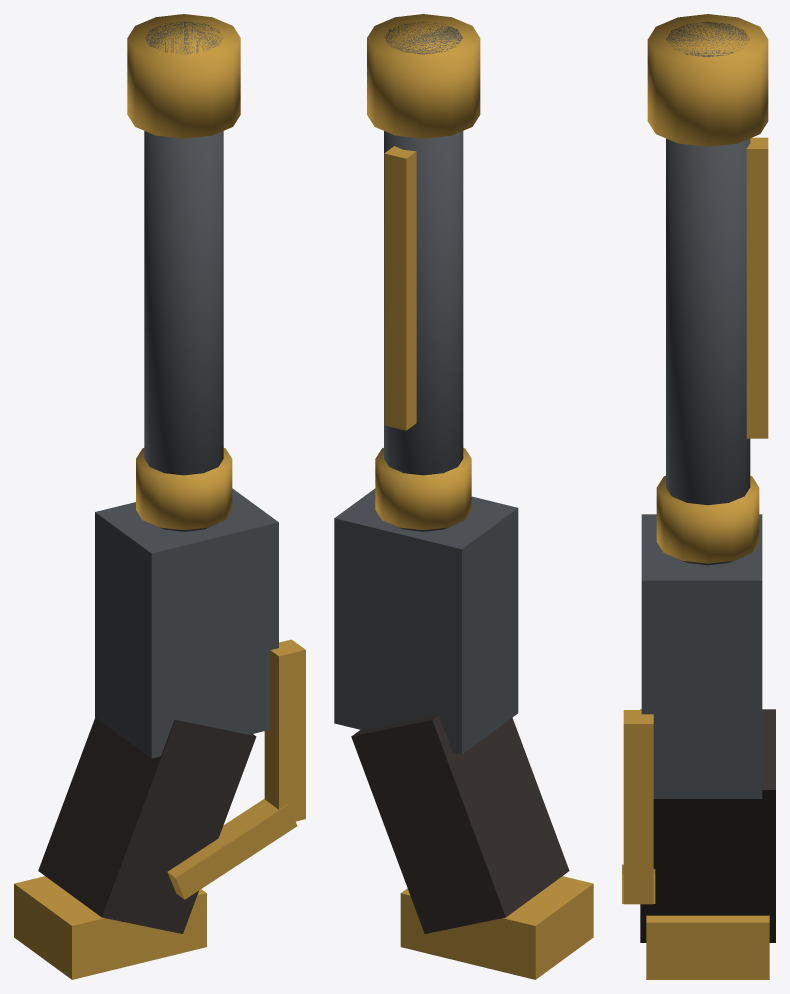
The model's file is pistol-last-word.fbx.
3 views of the same model, side by side, from view 1: azimuth 30°, elevation 25°; view 2: azimuth 150°, elevation 25°; view 3: azimuth 270°, elevation 25° (orthographic). The views are drawn at different scales.
Parts seen in each view (by area): view 1: PistolLastWord_AngularReceiver, PistolLastWord_AngularGrip, PistolLastWord_HeavyBarrel, PistolLastWord_CrownedMuzzle, PistolLastWord_CoffinPommel, PistolLastWord_GuardPost, PistolLastWord_RearBand, PistolLastWord_GuardHook; view 2: PistolLastWord_AngularReceiver, PistolLastWord_AngularGrip, PistolLastWord_HeavyBarrel, PistolLastWord_CrownedMuzzle, PistolLastWord_CoffinPommel, PistolLastWord_SightRidge, PistolLastWord_RearBand; view 3: PistolLastWord_HeavyBarrel, PistolLastWord_AngularReceiver, PistolLastWord_AngularGrip, PistolLastWord_CrownedMuzzle, PistolLastWord_CoffinPommel, PistolLastWord_SightRidge, PistolLastWord_RearBand, PistolLastWord_GuardPost.
Boxes of the visible parts, bbox=[...] form: PistolLastWord_AngularReceiver: bbox=[95, 488, 278, 758]; PistolLastWord_AngularGrip: bbox=[38, 717, 256, 933]; PistolLastWord_HeavyBarrel: bbox=[144, 21, 223, 531]; PistolLastWord_CrownedMuzzle: bbox=[127, 14, 240, 138]; PistolLastWord_CoffinPommel: bbox=[14, 876, 206, 979]; PistolLastWord_GuardPost: bbox=[264, 639, 305, 821]; PistolLastWord_RearBand: bbox=[136, 448, 232, 530]; PistolLastWord_GuardHook: bbox=[167, 798, 297, 899]; PistolLastWord_AngularReceiver: bbox=[334, 488, 518, 754]; PistolLastWord_AngularGrip: bbox=[351, 715, 569, 933]; PistolLastWord_HeavyBarrel: bbox=[384, 22, 463, 531]; PistolLastWord_CrownedMuzzle: bbox=[367, 14, 480, 138]; PistolLastWord_CoffinPommel: bbox=[400, 876, 593, 979]; PistolLastWord_SightRidge: bbox=[384, 146, 416, 430]; PistolLastWord_RearBand: bbox=[375, 448, 471, 530]; PistolLastWord_HeavyBarrel: bbox=[666, 21, 750, 565]; PistolLastWord_AngularReceiver: bbox=[641, 514, 762, 798]; PistolLastWord_AngularGrip: bbox=[640, 709, 775, 942]; PistolLastWord_CrownedMuzzle: bbox=[647, 14, 768, 146]; PistolLastWord_CoffinPommel: bbox=[646, 915, 769, 979]; PistolLastWord_SightRidge: bbox=[746, 137, 768, 438]; PistolLastWord_RearBand: bbox=[656, 475, 759, 563]; PistolLastWord_GuardPost: bbox=[623, 710, 653, 904].
Size of the model in its own units: 0.091 by 0.3455 by 0.051.
